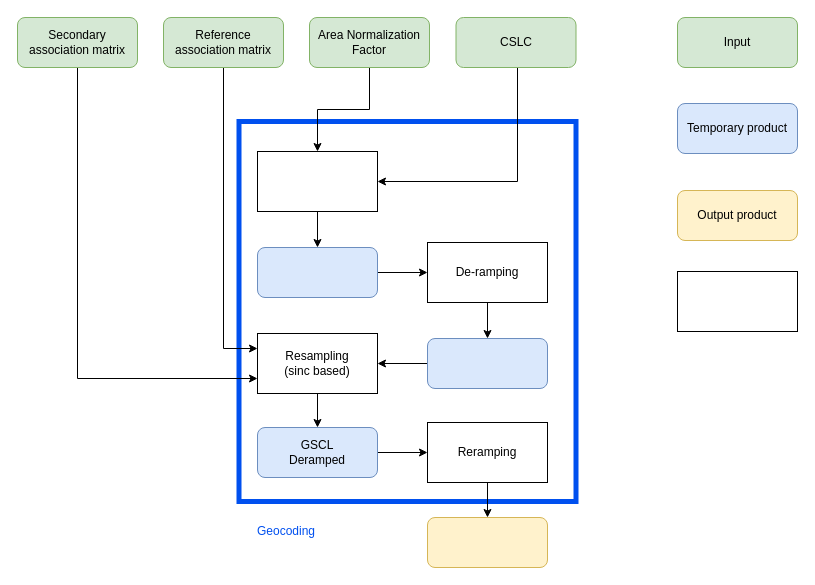
Some shapes in this 815 by 585 pixel diagram are drawn without their labels. The shapes that lost their labels are listed below. From the top down, each one's box as (x1, y1, x2, y2) in pixels, then its label:
(256, 150, 378, 212): Gamma Flattening
(256, 246, 378, 298): CSLC (Calibrated Gamma0)
(676, 270, 798, 332): Processing block
(426, 338, 548, 388): CSLC Deramped
(426, 516, 548, 568): GSLC
